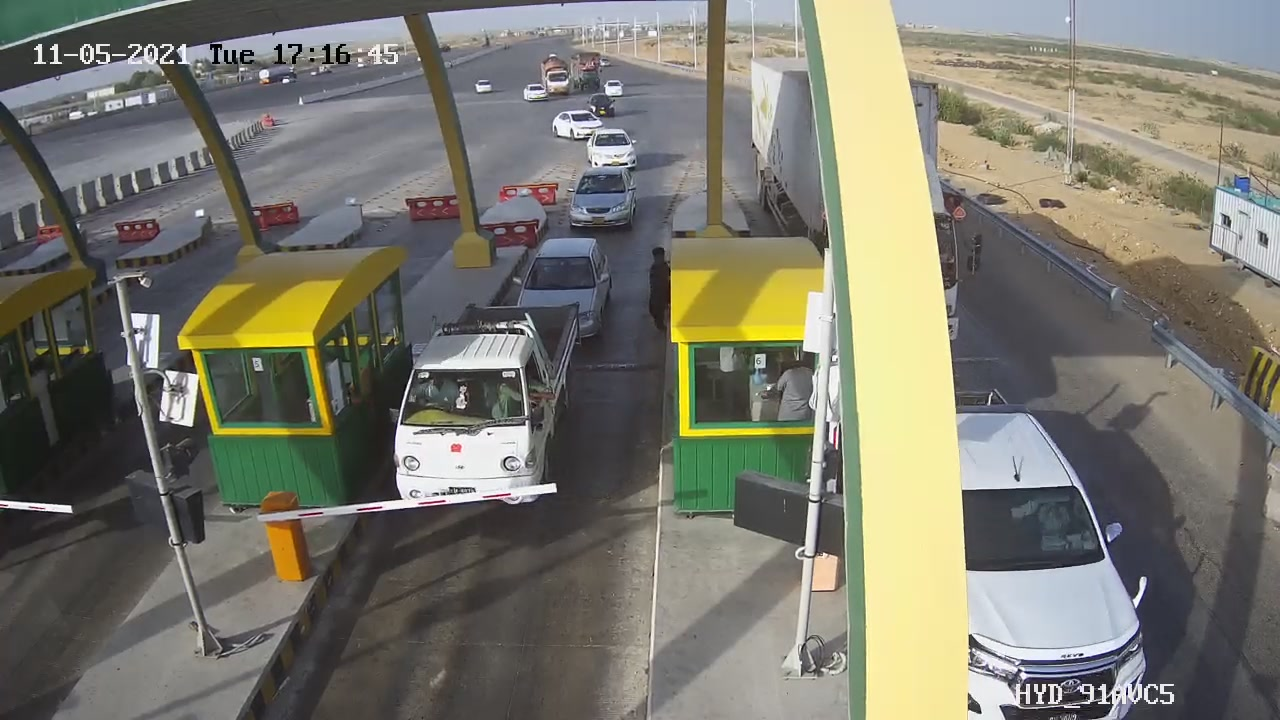F2: (365, 291, 599, 521)
